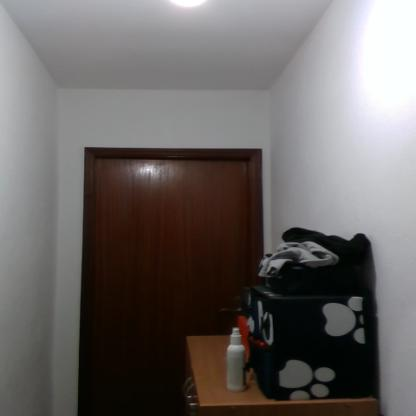closed: (66, 134, 270, 410)
